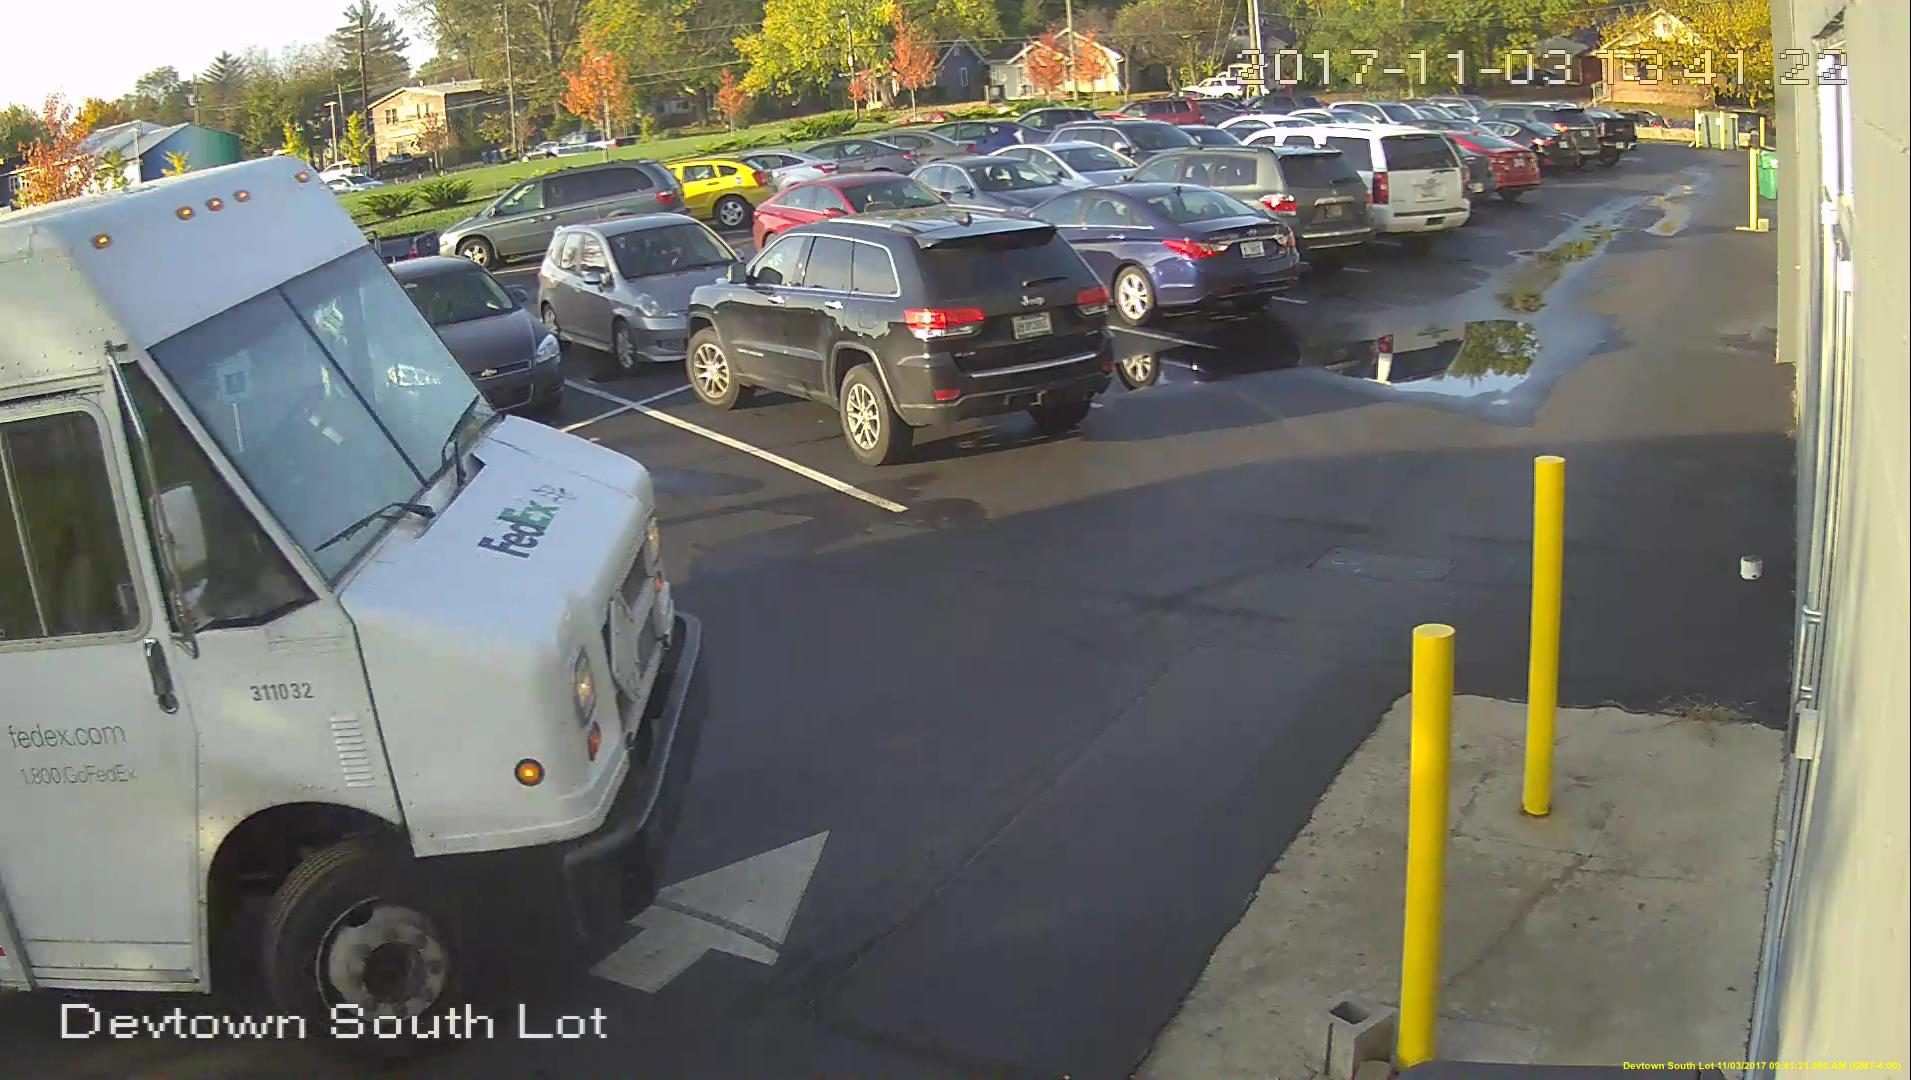fedex_truck: (3, 157, 718, 1020)
